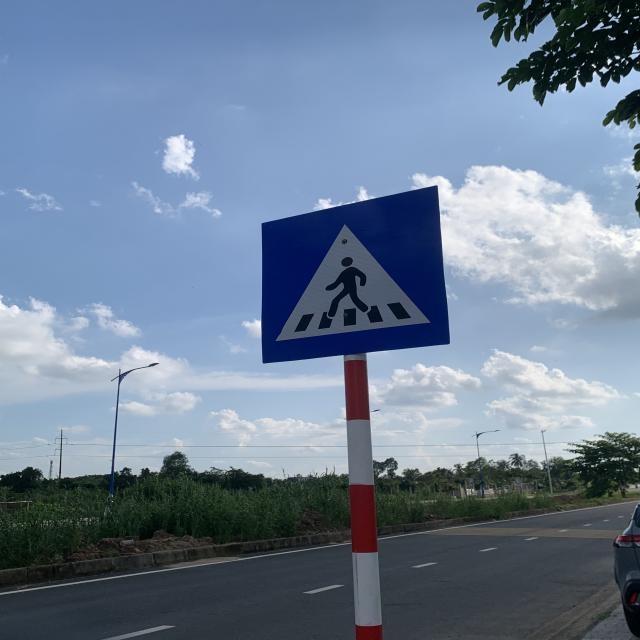Giao_Nhau_Duong_Uu_Tien: (263, 183, 449, 364)
